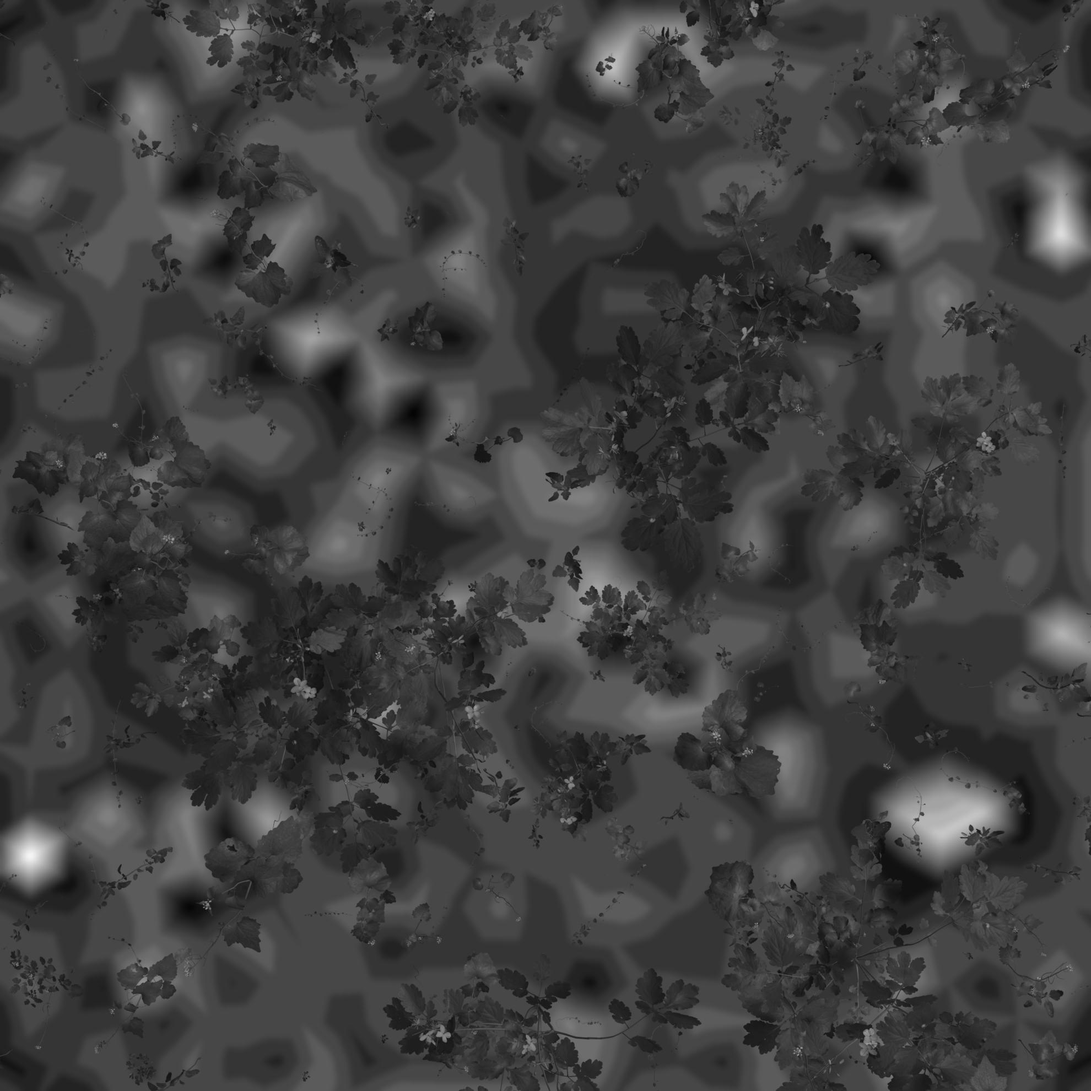landmine: (818, 702, 1058, 896), (65, 543, 281, 737), (534, 228, 750, 386)
